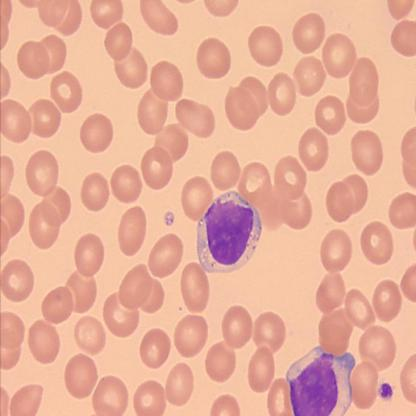Atypical lymphocyte: (193, 188, 263, 276)
